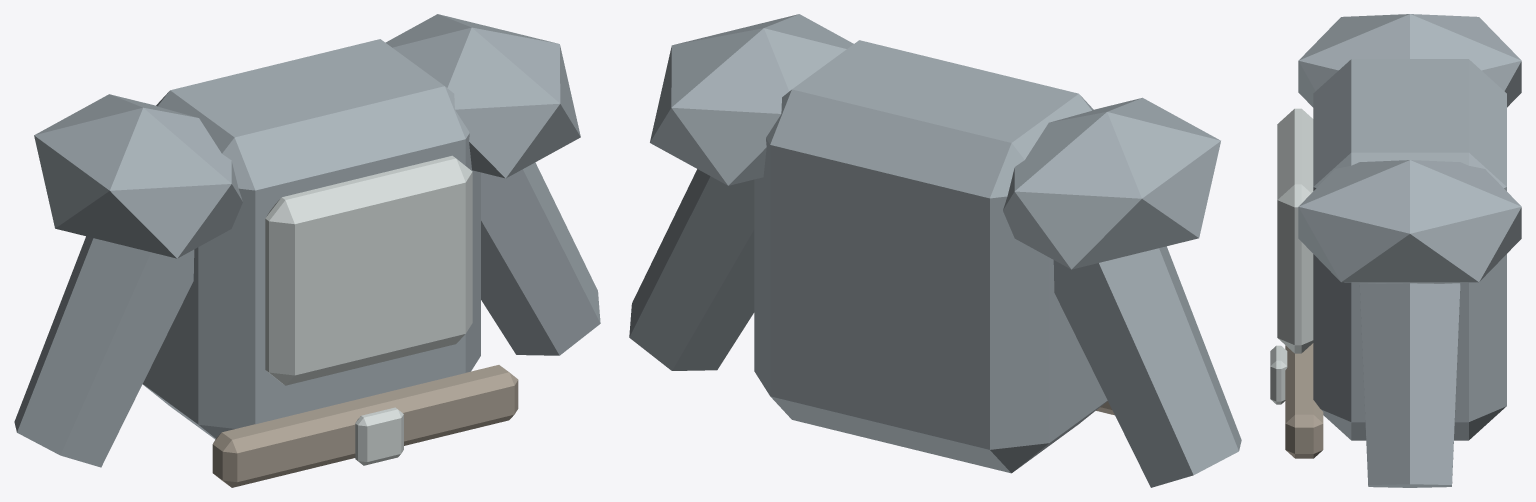
The model's file is SM_NPC_Top_01_Armor.glb.
The picture shows the model from 3 angles, left to right: view 1: azimuth 30°, elevation 25°; view 2: azimuth 150°, elevation 25°; view 3: azimuth 270°, elevation 25°; orthographic projection. The views are drawn at different scales.
Visible parts, largest first — view 1: SM_NPC_Top_01_Armor; view 2: SM_NPC_Top_01_Armor; view 3: SM_NPC_Top_01_Armor.
Boxes of the visible parts, box(x1,y1,x2,y2) form: SM_NPC_Top_01_Armor: box(14, 14, 600, 487); SM_NPC_Top_01_Armor: box(629, 14, 1241, 487); SM_NPC_Top_01_Armor: box(1270, 14, 1521, 487).
Bounding box in the file's own units: 0.8845 × 0.495 × 0.3641.
